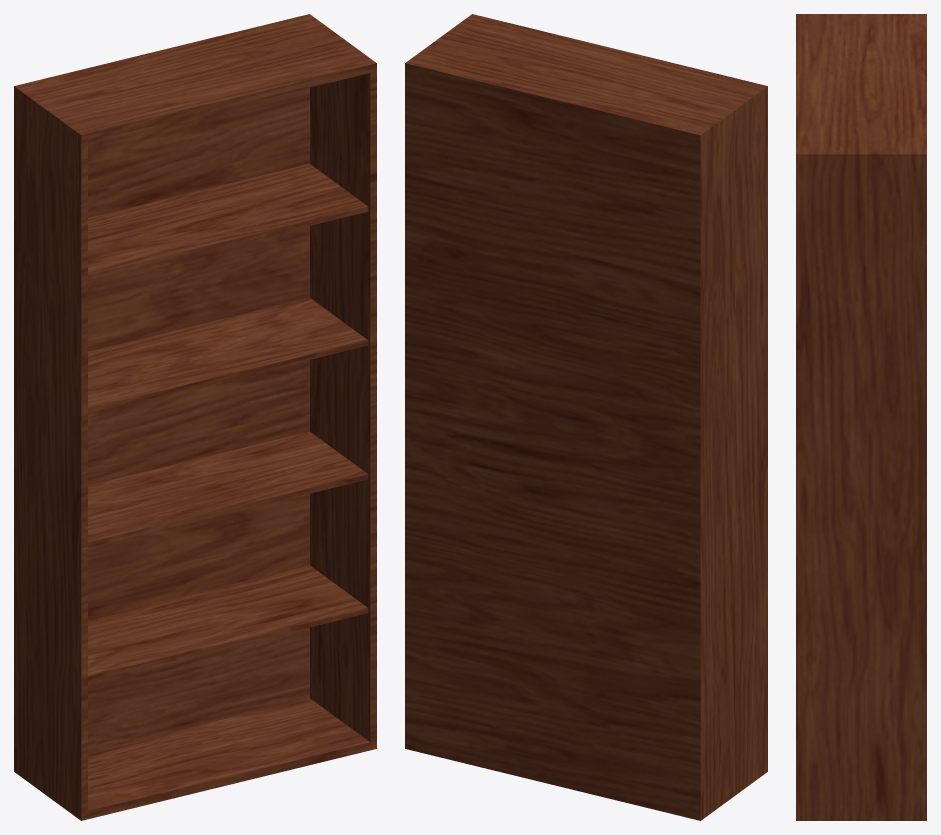
The model's file is bookshelf.glb.
3 renders of one model, left to right at view 1: azimuth 30°, elevation 25°; view 2: azimuth 150°, elevation 25°; view 3: azimuth 270°, elevation 25°, orthographic. The views are drawn at different scales.
Visible parts, largest first — view 1: hillur_EHH_hillur_0; view 2: hillur_EHH_hillur_0; view 3: hillur_EHH_hillur_0.
Boxes of the visible parts, x1,y1,x2,y2 form: hillur_EHH_hillur_0: [14, 14, 376, 820]; hillur_EHH_hillur_0: [405, 14, 767, 820]; hillur_EHH_hillur_0: [796, 14, 926, 820].
Size of the model in its own units: 0.894 by 1.98 by 0.3521.
1 material, 1 textured.
